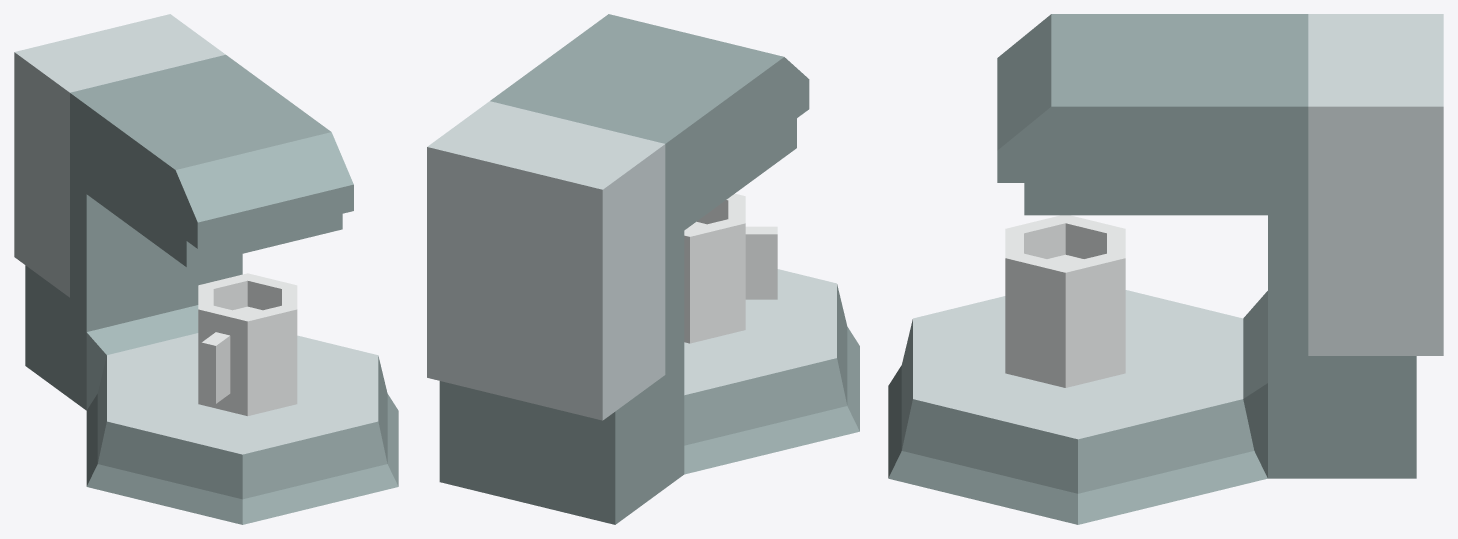
File: kitchenCoffeeMachine.glb
3 views of the same model, side by side, from view 1: azimuth 30°, elevation 25°; view 2: azimuth 150°, elevation 25°; view 3: azimuth 270°, elevation 25° (orthographic). The views are drawn at different scales.
Visible parts, largest first — view 1: kitchenCoffeeMachine(Clone), mug; view 2: kitchenCoffeeMachine(Clone), mug; view 3: kitchenCoffeeMachine(Clone), mug.
Boxes of the visible parts, x1,y1,x2,y2 form: kitchenCoffeeMachine(Clone): (14, 14, 398, 524); mug: (198, 273, 297, 416); kitchenCoffeeMachine(Clone): (427, 14, 859, 524); mug: (684, 193, 777, 343); kitchenCoffeeMachine(Clone): (888, 14, 1443, 524); mug: (1005, 215, 1125, 387).
Bounding box in the file's own units: 0.3848 × 0.3603 × 0.4875.
Materials: 3 (3 with a texture image).
